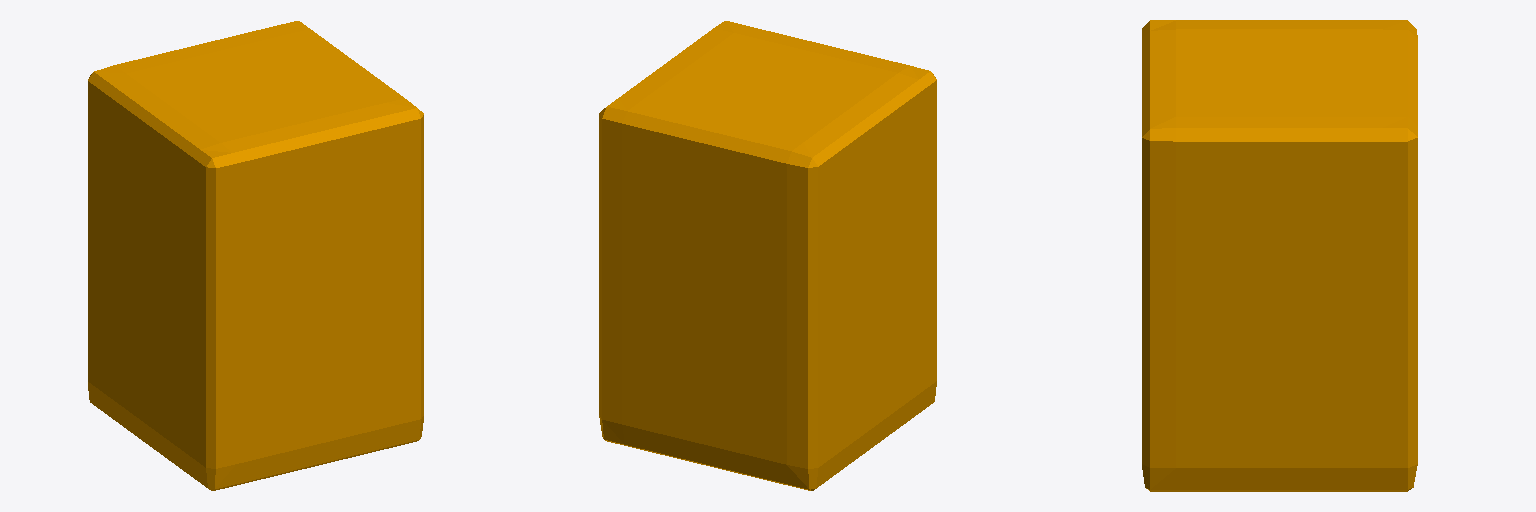
URDF robot description (cylinder_box_75):
<?xml version="1.0" encoding="utf-8"?>  <robot name="cylinder_box_75">   <link name="cylinder_box_75">     <visual>       <geometry>         <mesh filename="../meshes/box/box_75.stl" scale="1 1 1"/>       </geometry>     </visual>     <collision>       <geometry>         <mesh filename="../meshes/box/box_75.stl" scale="1 1 1"/>       </geometry>     </collision>     <inertial>        <origin         xyz="0 0 0"         rpy="0 0 0" />       <mass value="0.2219160610595535"/>       <origin rpy="0 0 0" xyz="0 0 0"/>       <inertia ixx="0.0001642348018108023" ixy="-4.7915483804273534e-08" ixz="-7.053222679788731e-08" iyy="0.0001637425517580615" iyz="-6.419489008070325e-08" izz="0.0001050398840636146"/>     </inertial>   </link>  </robot>

--- What the picture shows (computed from the rendered views, not written in the file) ---
Views: 3 orthographic renders of the robot side by side, from view 1: azimuth 30°, elevation 25°; view 2: azimuth 150°, elevation 25°; view 3: azimuth 270°, elevation 25°.
Model cylinder_box_75 with 1 links and 0 joints (none), rooted at cylinder_box_75, posed all joints at 0.
Visible links, largest first — view 1: cylinder_box_75; view 2: cylinder_box_75; view 3: cylinder_box_75.
Link boxes in pixels (bbox=[...]): cylinder_box_75: bbox=[88, 21, 423, 490]; cylinder_box_75: bbox=[599, 21, 936, 490]; cylinder_box_75: bbox=[1142, 20, 1417, 491].
Bounding box of the posed robot: 0.0534 × 0.0537 × 0.078 m (x, y, z).
1 mesh visuals loaded from 1 distinct referenced files (1 binary STL).